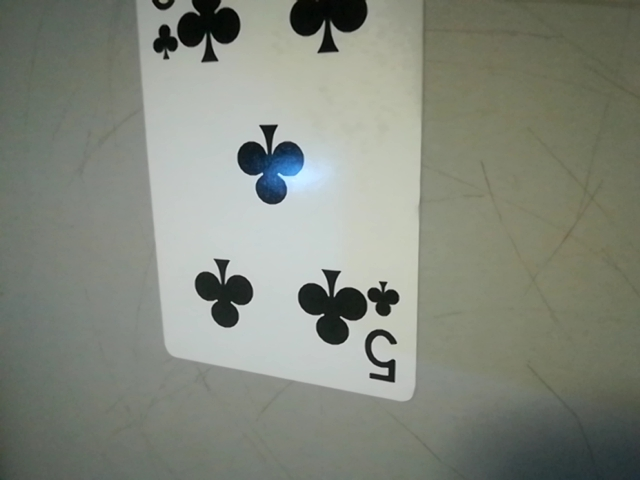mh 5: (363, 273, 415, 391)
